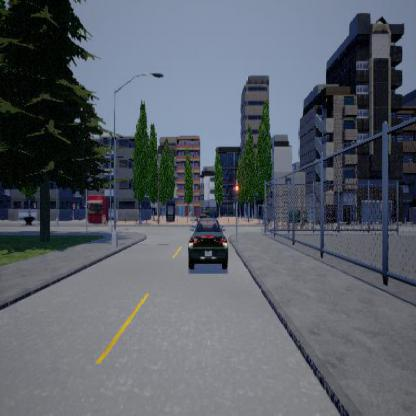traffic_light_red: (234, 180, 238, 204)
vehicle: (187, 215, 228, 268)
